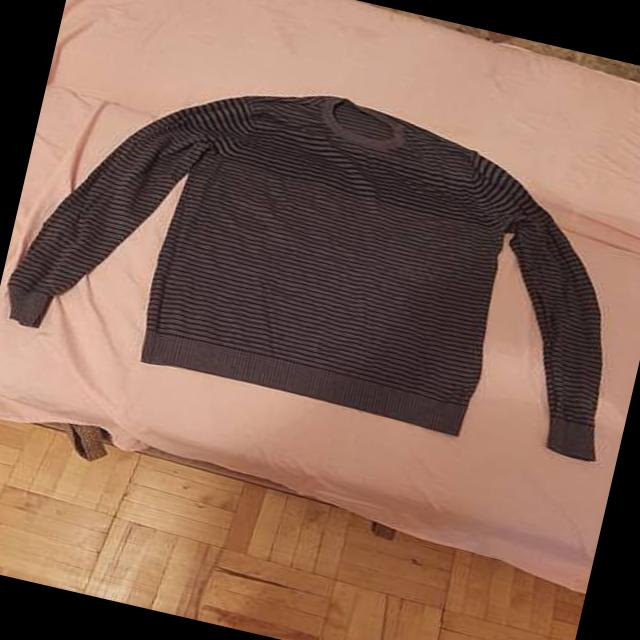SHIRT: (0, 26, 640, 488)
